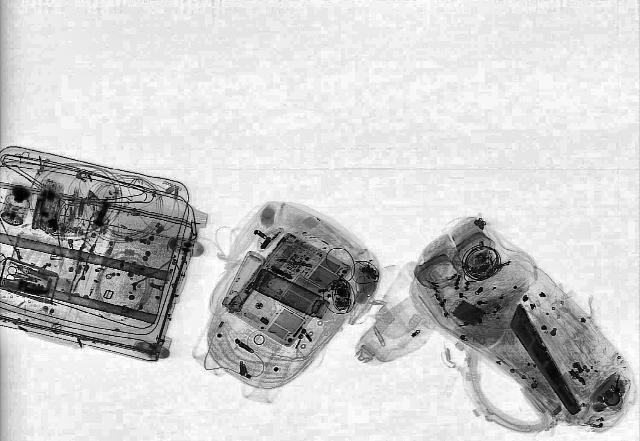Scissors: (1, 265, 44, 287)
